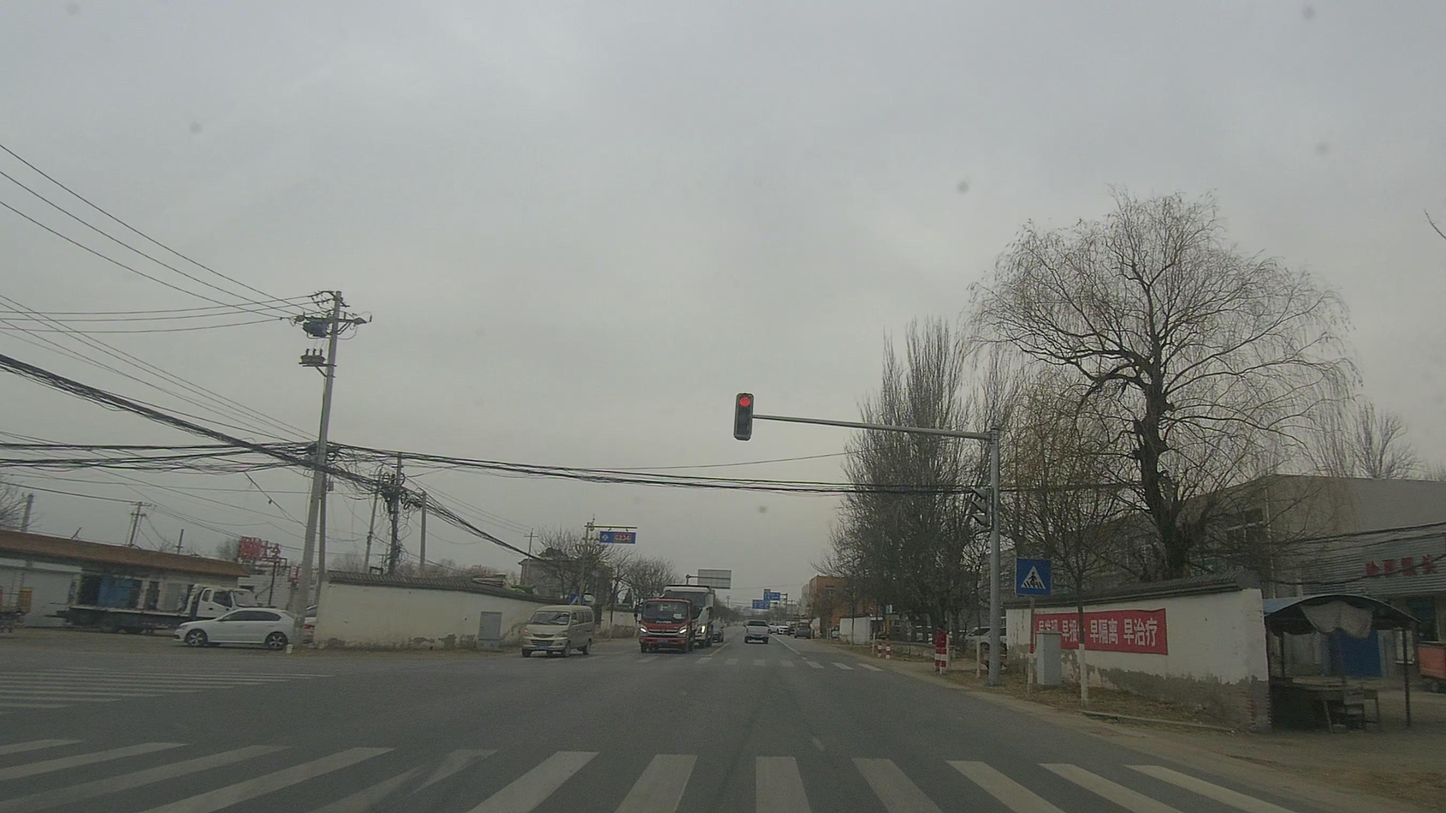green_light: (709, 359, 831, 505)
